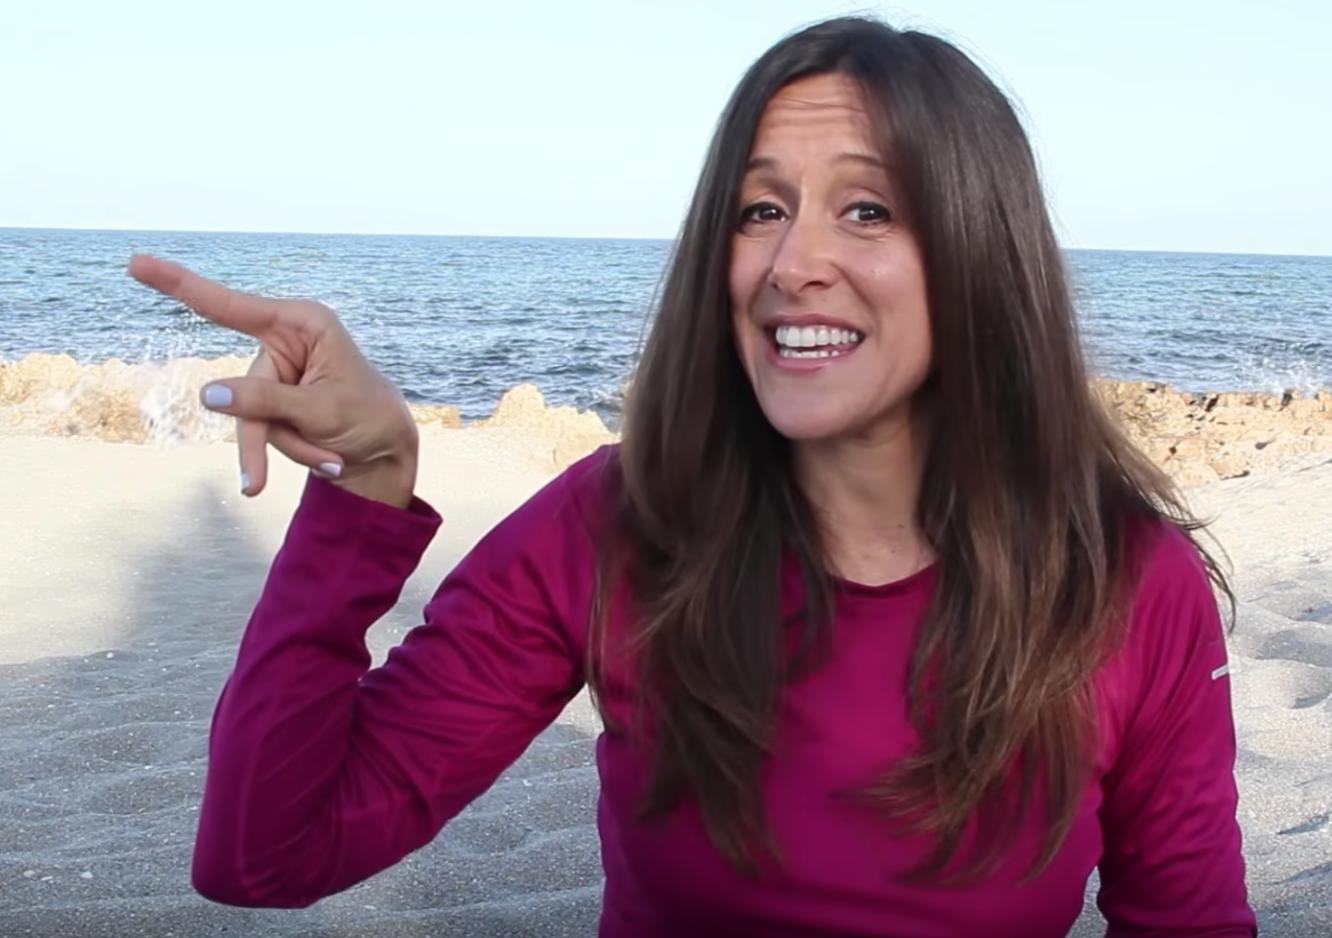p: (112, 240, 478, 571)
